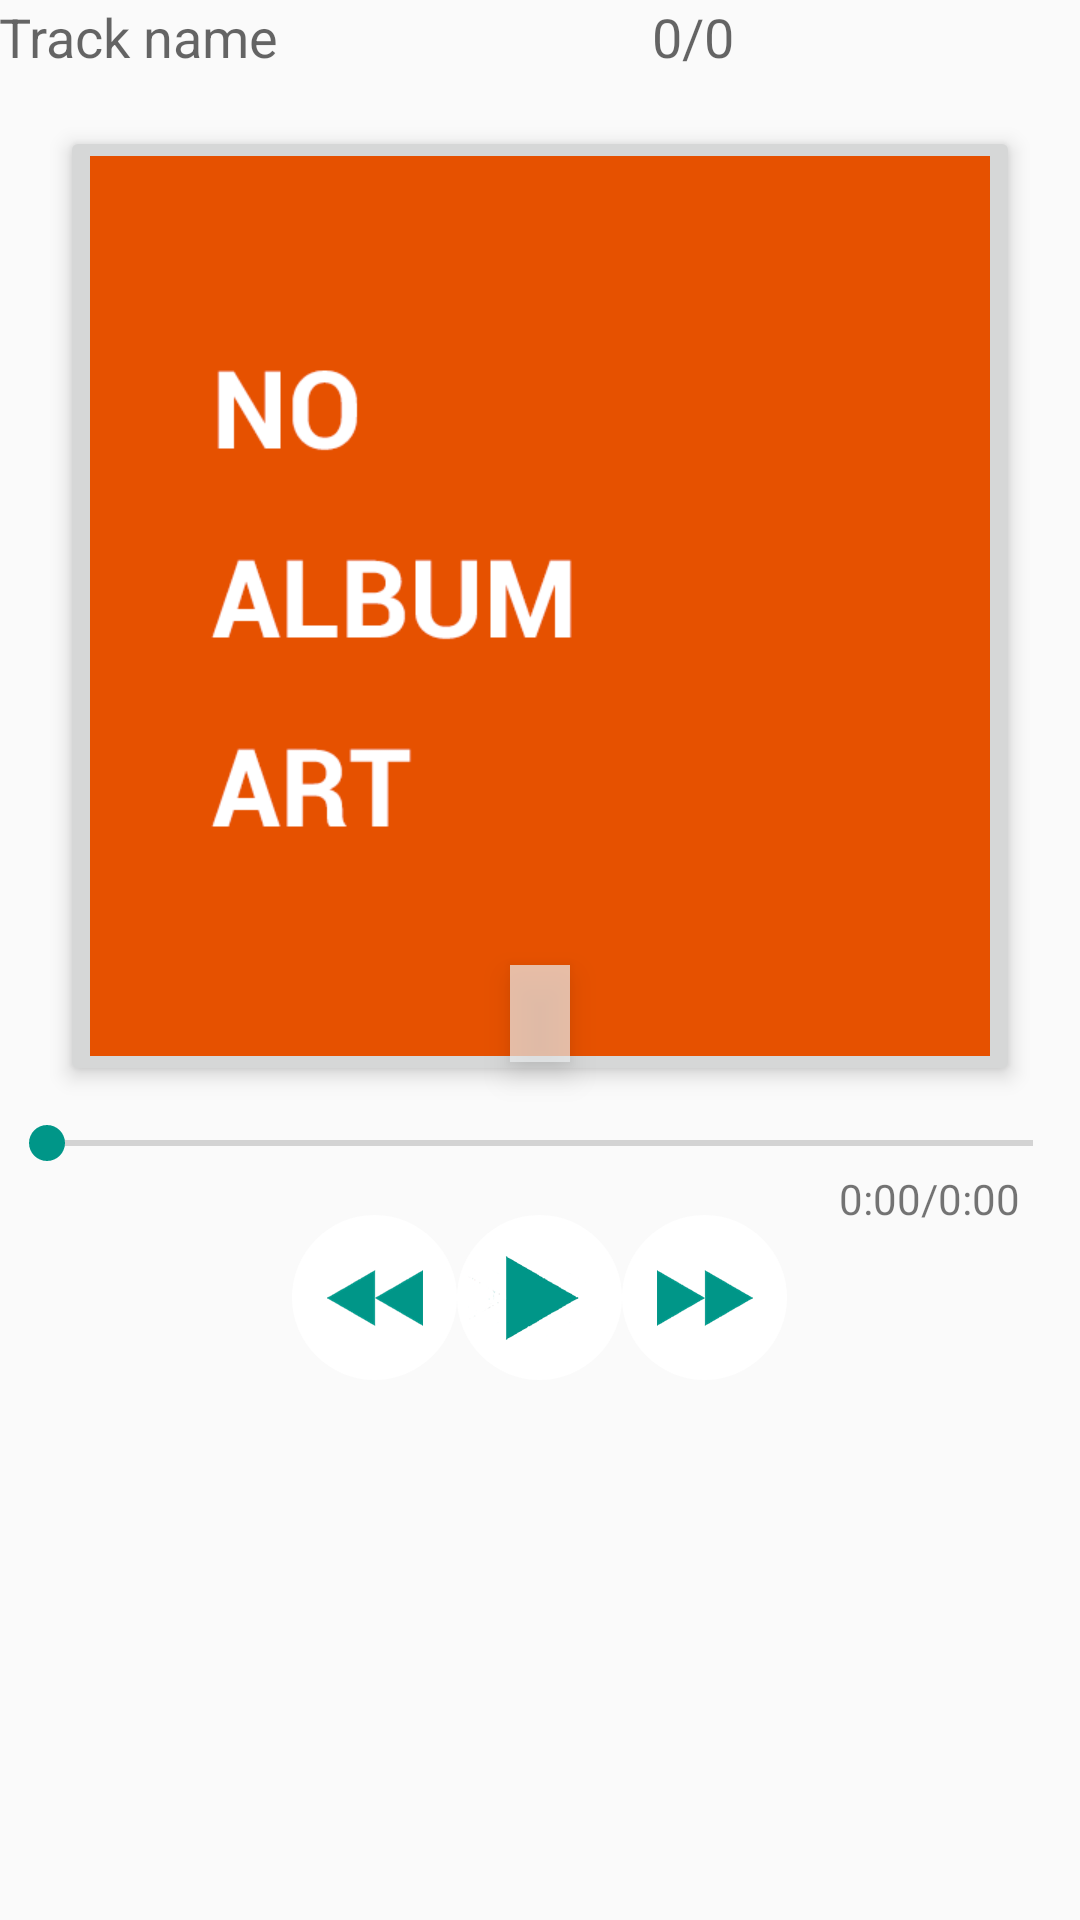

Point at icon controls on the screen. Image size 1080px x 1920px, points as (x,y).
backward: (375,1298)
forward: (705,1298)
play: (536,1298)
